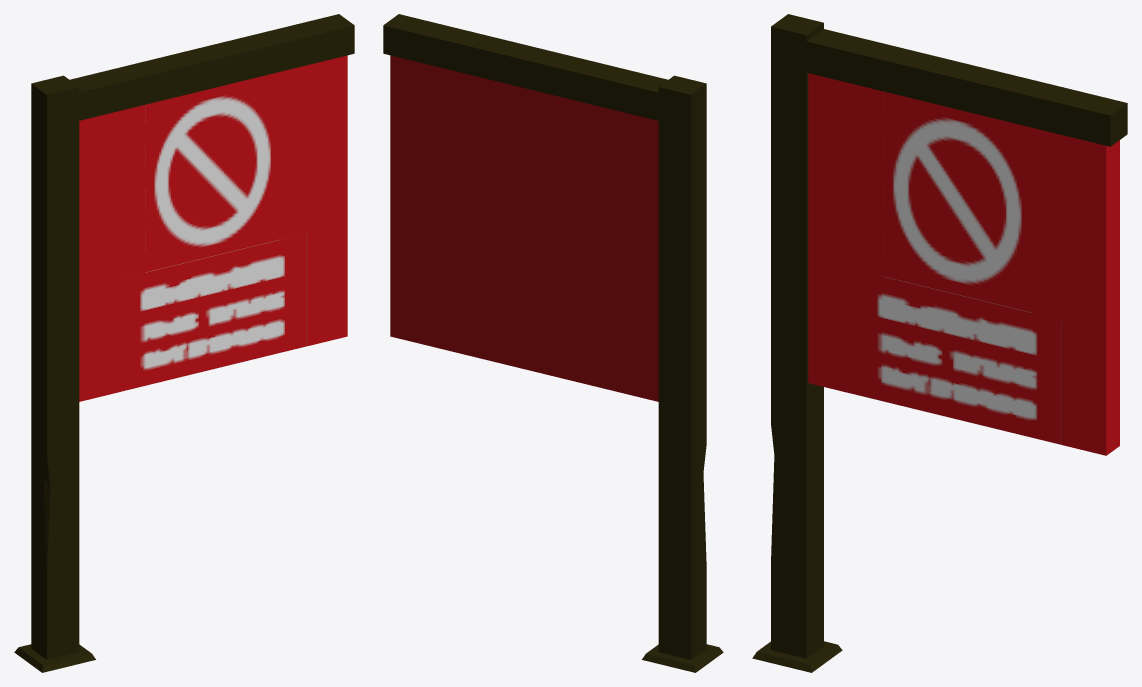
The model's file is SW_PROP_Sign_Danger.fbx.
3 views of the same model, side by side, from view 1: azimuth 30°, elevation 25°; view 2: azimuth 150°, elevation 25°; view 3: azimuth 330°, elevation 25° (orthographic). The views are drawn at different scales.
Parts seen in each view (by area): view 1: SW_PROP_Sign_Danger; view 2: SW_PROP_Sign_Danger; view 3: SW_PROP_Sign_Danger.
Boxes of the visible parts, bbox=[...] form: SW_PROP_Sign_Danger: bbox=[14, 14, 354, 672]; SW_PROP_Sign_Danger: bbox=[383, 14, 723, 672]; SW_PROP_Sign_Danger: bbox=[752, 14, 1127, 672].
Bounding box in the file's own units: 0.59 × 1.01 × 0.09.
